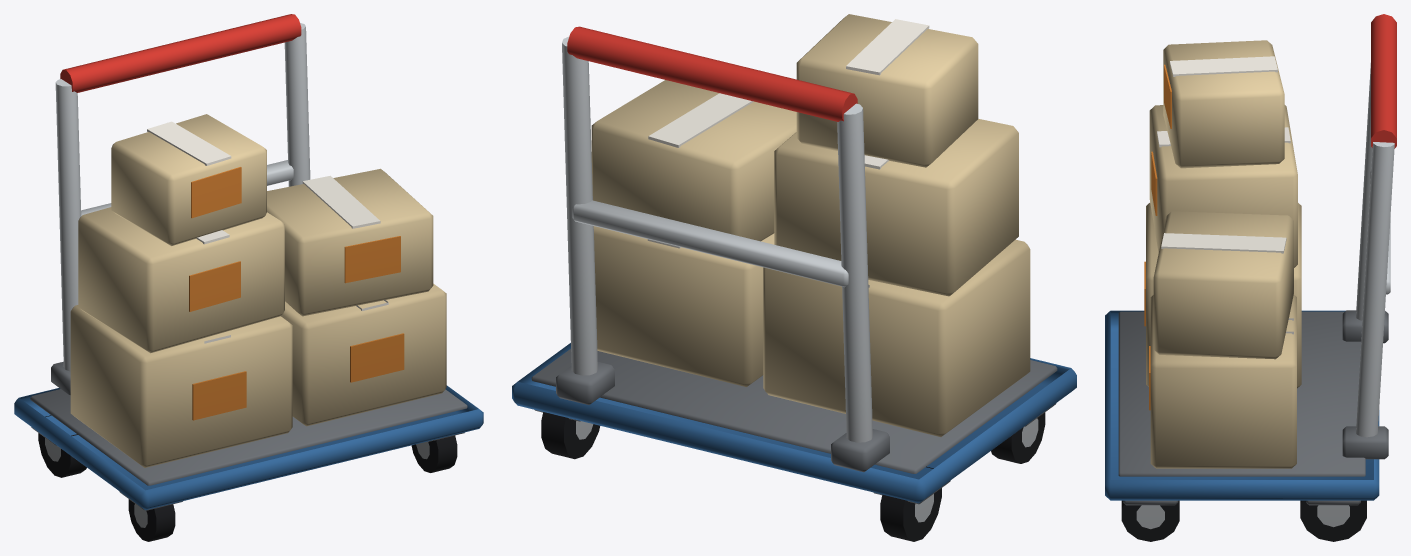
Rendered from DeliveryBoxes_Dolly_01.glb.
The picture shows the model from 3 angles, left to right: view 1: azimuth 30°, elevation 25°; view 2: azimuth 150°, elevation 25°; view 3: azimuth 270°, elevation 25°; orthographic projection. The views are drawn at different scales.
Visible parts, largest first — view 1: SM_DeliveryBoxes_Dolly_01; view 2: SM_DeliveryBoxes_Dolly_01; view 3: SM_DeliveryBoxes_Dolly_01.
Boxes of the visible parts, left/top/right/bottom form: SM_DeliveryBoxes_Dolly_01: left=14, top=14, right=483, bottom=541; SM_DeliveryBoxes_Dolly_01: left=512, top=14, right=1076, bottom=541; SM_DeliveryBoxes_Dolly_01: left=1105, top=14, right=1396, bottom=541.
Bounding box in the file's own units: 0.9 × 0.95 × 0.6385.
Materials: 1 (1 with a texture image).
